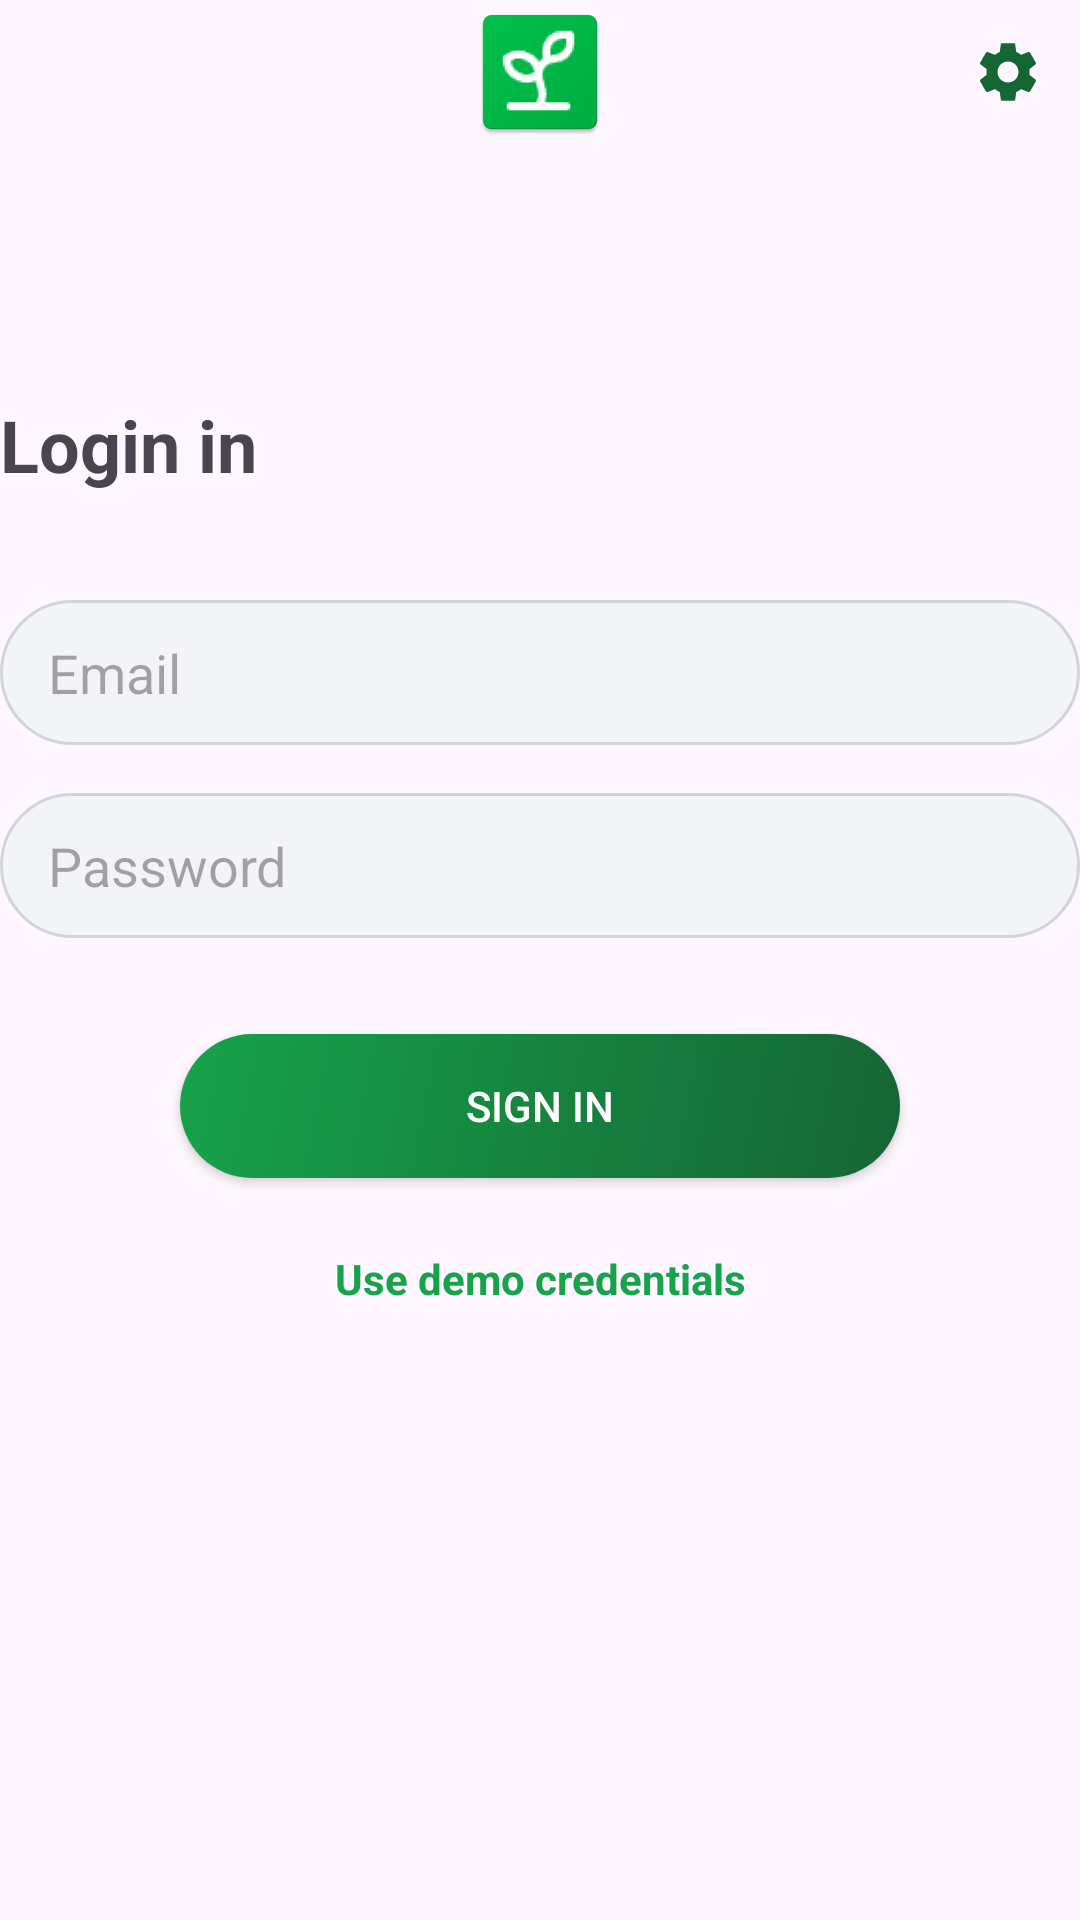

Where icons sit on this 1080*1920 app screen, as bbox(x1, y1, x2, y2):
Settings: bbox(980, 43, 1036, 101)
